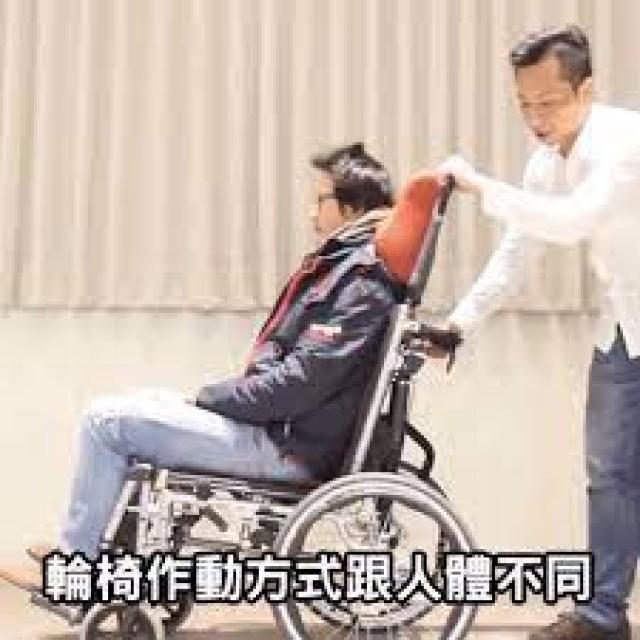wheelchairs: (20, 168, 475, 637)
